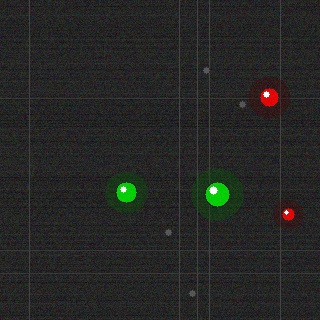green_normal: (203, 180, 231, 208), (114, 180, 138, 204)
red_fault: (258, 86, 280, 108), (280, 206, 296, 222)
